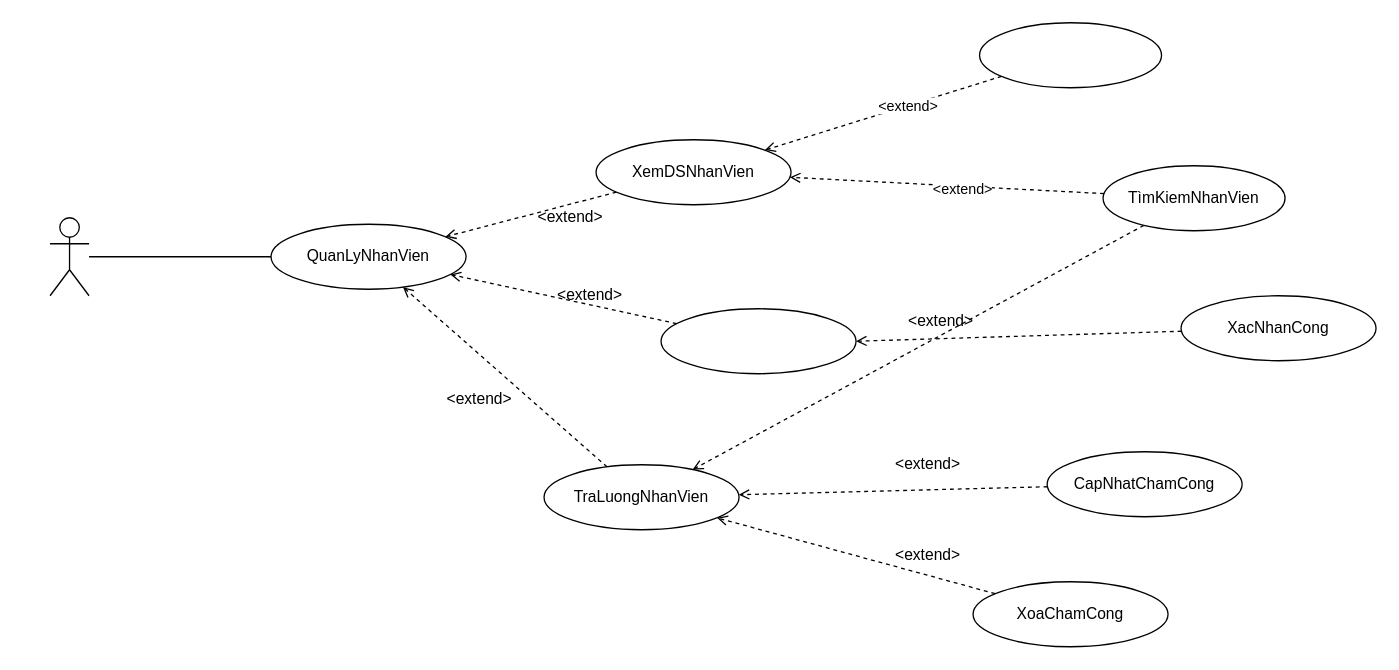
The diagram is 1399 pixels wide and 670 high, and some of its shapes have lost their labels. Here are the shapes that lost their labels. From the top down, the centre of each, then its label:
At point 1070,54: "ThemNV".
At point 69,256: "NguoiQuanLy".
At point 758,340: "ChamCongNhanVien".
